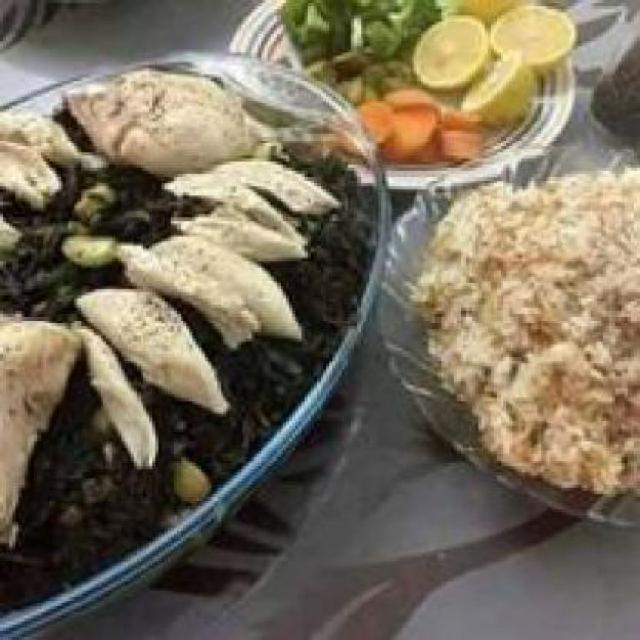fried rice: (413, 152, 638, 497)
